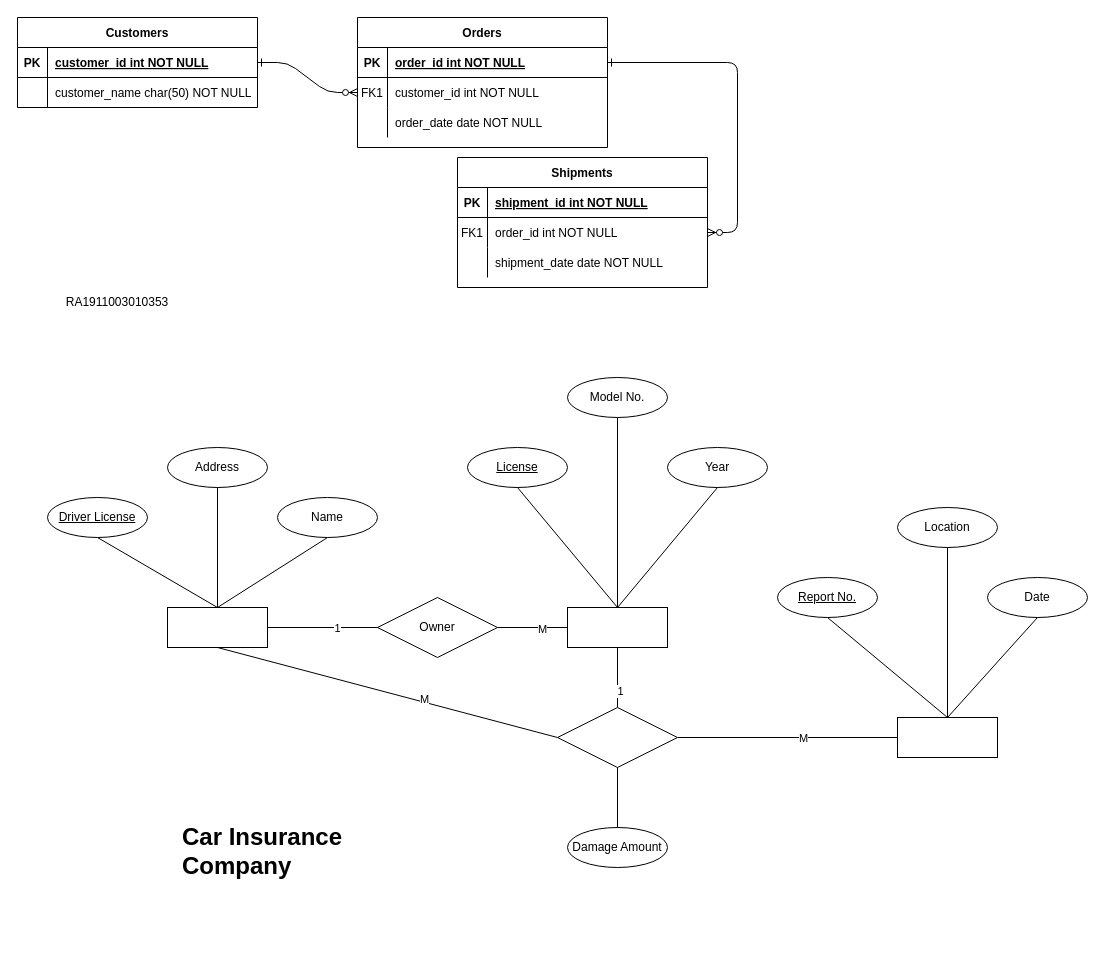
This 1105x955 diagram has some shape labels left out. The shapes that lost their labels are listed below. From the top down, each one's centre as x and y in pixels, then its label:
[217,627]: Customer
[617,627]: Car
[617,737]: related to
[947,737]: Accident
